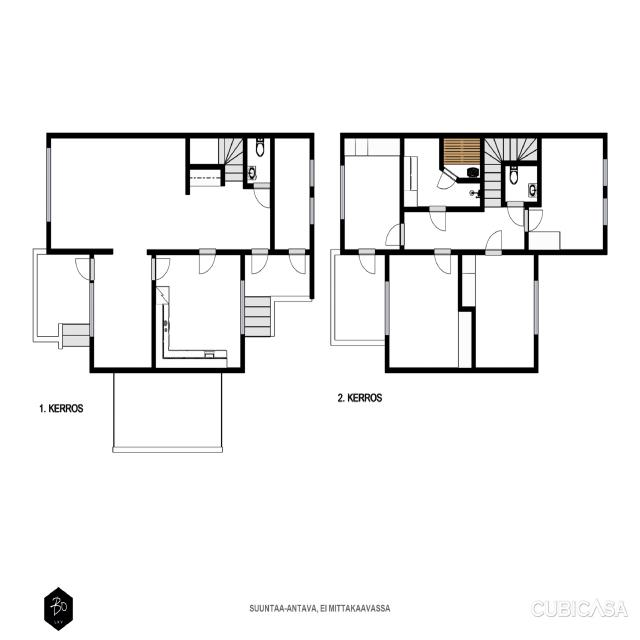door: (436, 167, 457, 197), (151, 258, 172, 280), (199, 248, 215, 276), (434, 249, 450, 277), (430, 206, 446, 234), (507, 201, 523, 229), (383, 224, 404, 245), (289, 249, 305, 276), (359, 249, 375, 276), (486, 228, 502, 255), (74, 259, 94, 280), (524, 210, 544, 231), (252, 249, 268, 275), (254, 183, 269, 210)
